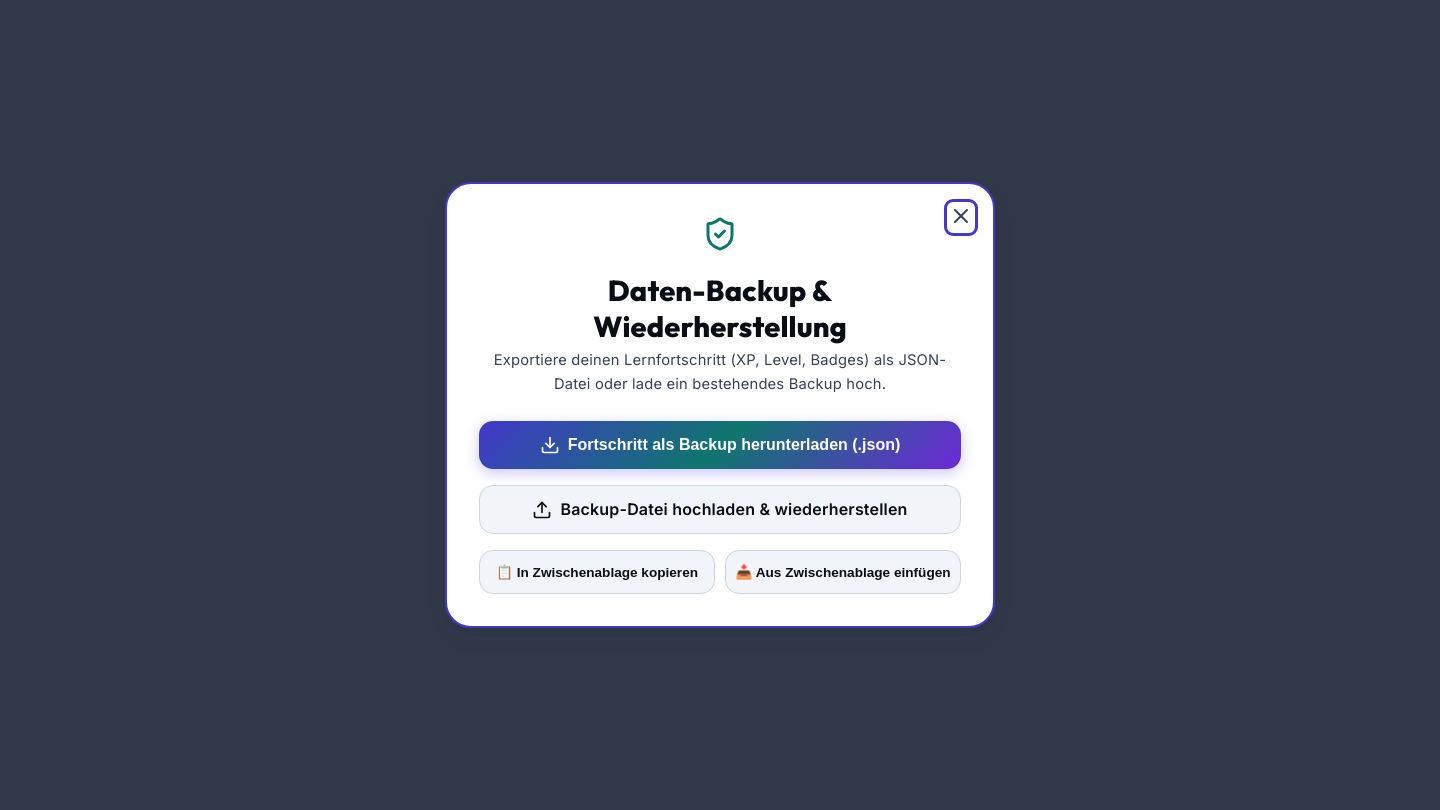
it: BackupModal › weist eine fremde JSON-Datei ab und behält den Fortschritt
What coordinates should you click on to do the following:
click the button "📥 Aus Zwischenablage einfügen"
I would click on:
 (843, 572)
Its box is [725,550,961,594].
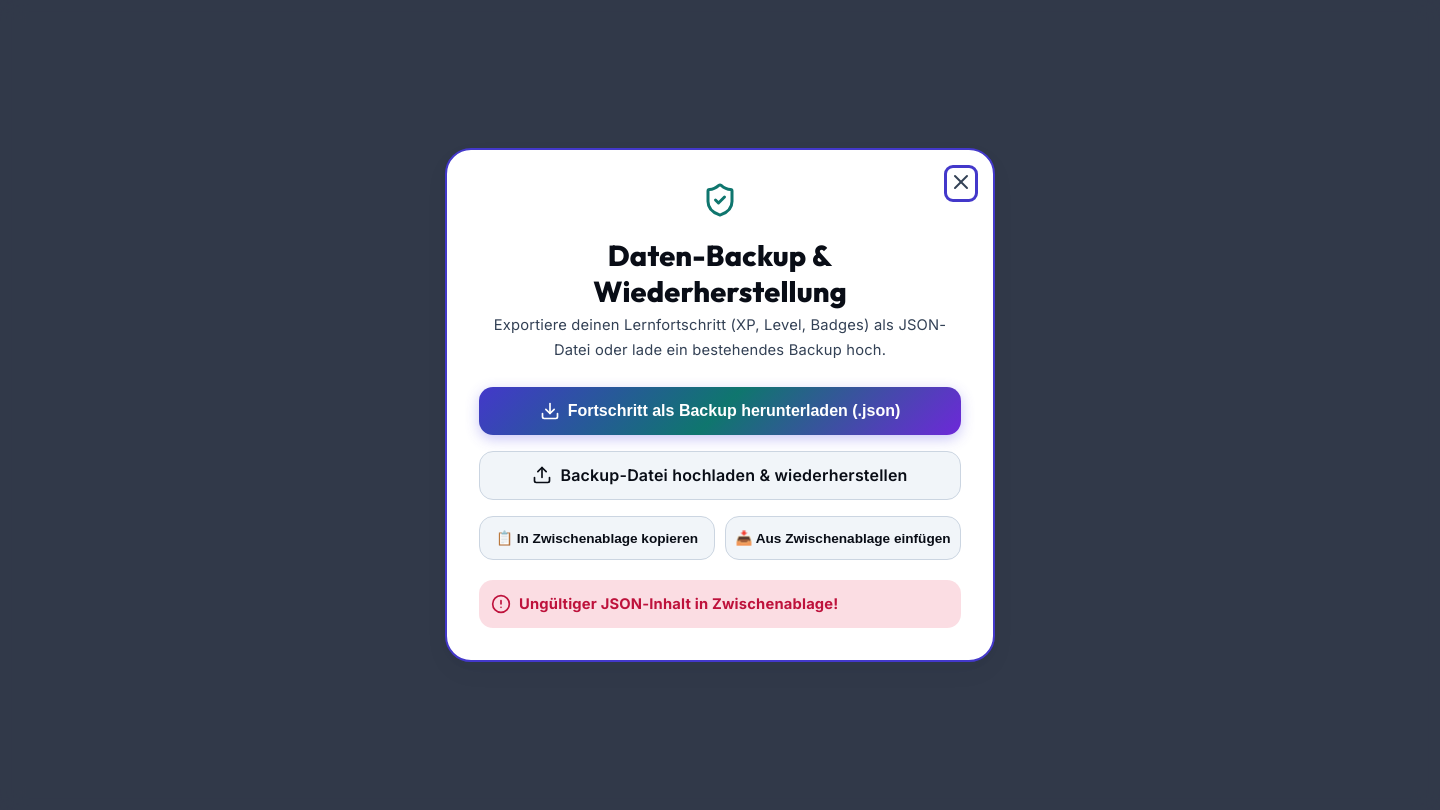
Check: the text "Ungültiger JSON-Inhalt in Zwischenablage!" is shown, box [519,592,838,616]
